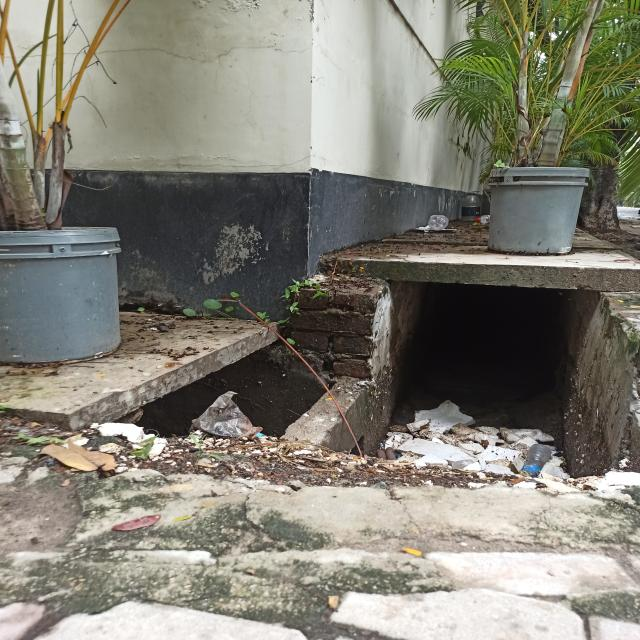artificial_container: (0, 226, 122, 363), (487, 166, 590, 256), (521, 443, 551, 478), (461, 191, 482, 221)
